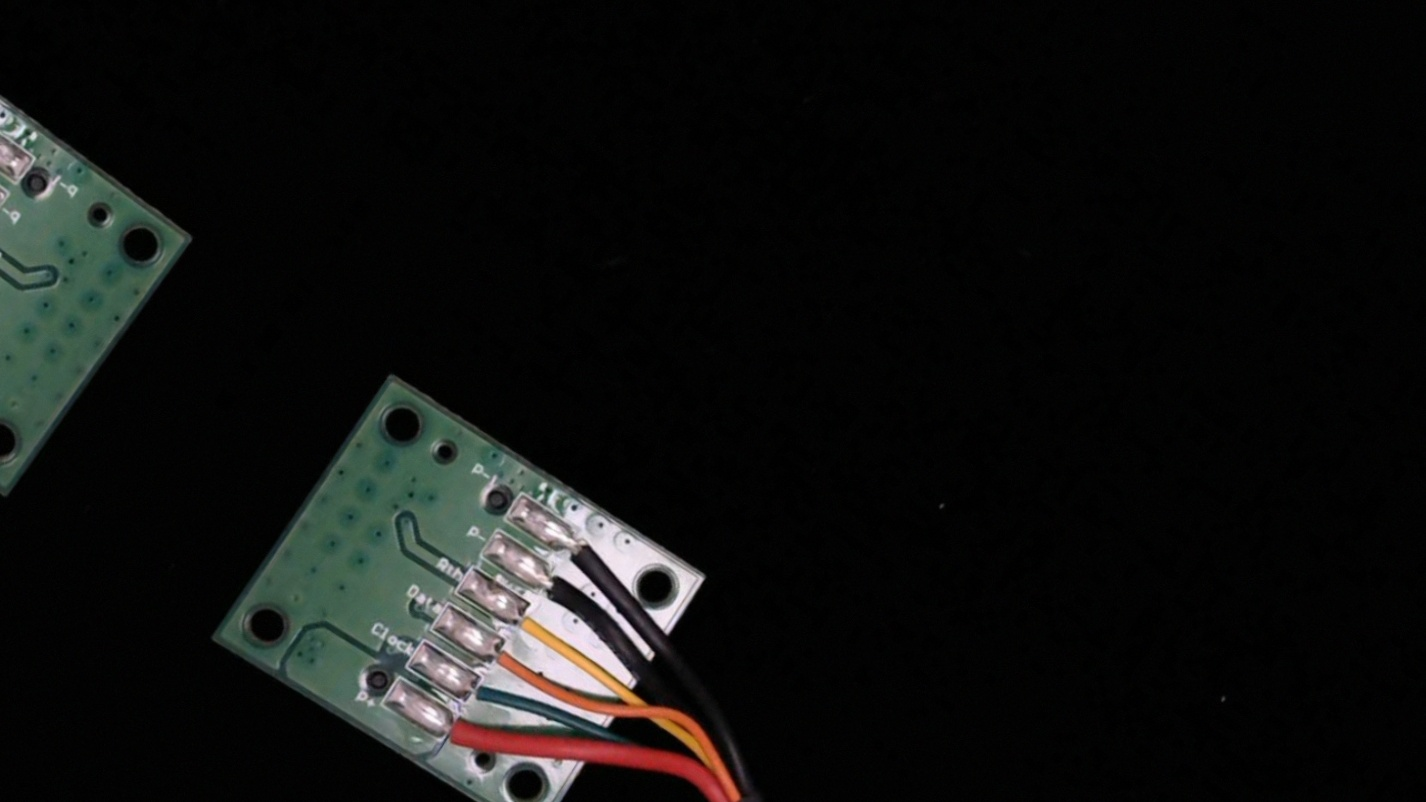Black: (518, 555, 603, 627)
Black1: (542, 517, 627, 591)
Green: (445, 662, 525, 734)
Orange: (466, 623, 554, 700)
Red: (419, 701, 507, 777)
Yellow: (490, 589, 582, 668)
